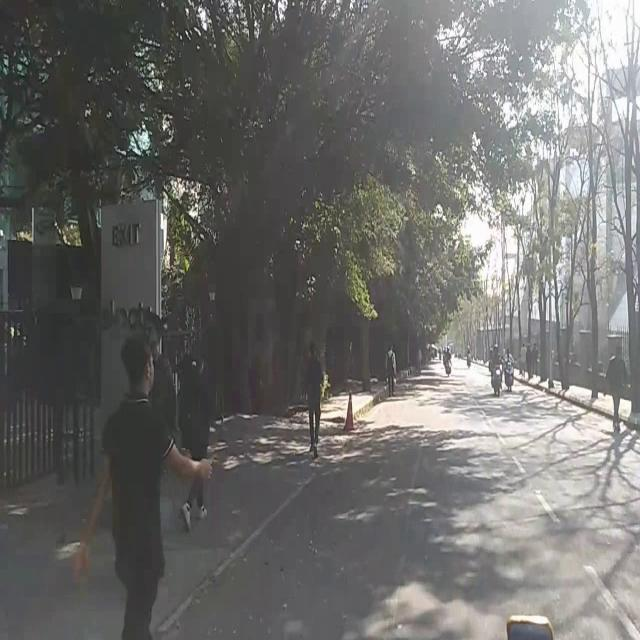person: (90, 326, 210, 640), (299, 327, 327, 458), (605, 341, 629, 444), (384, 335, 399, 399)
road: (212, 454, 640, 640), (329, 403, 614, 459), (401, 359, 542, 402)
sidewalk: (3, 508, 86, 640), (212, 407, 298, 452), (534, 362, 610, 398), (329, 378, 379, 420)
